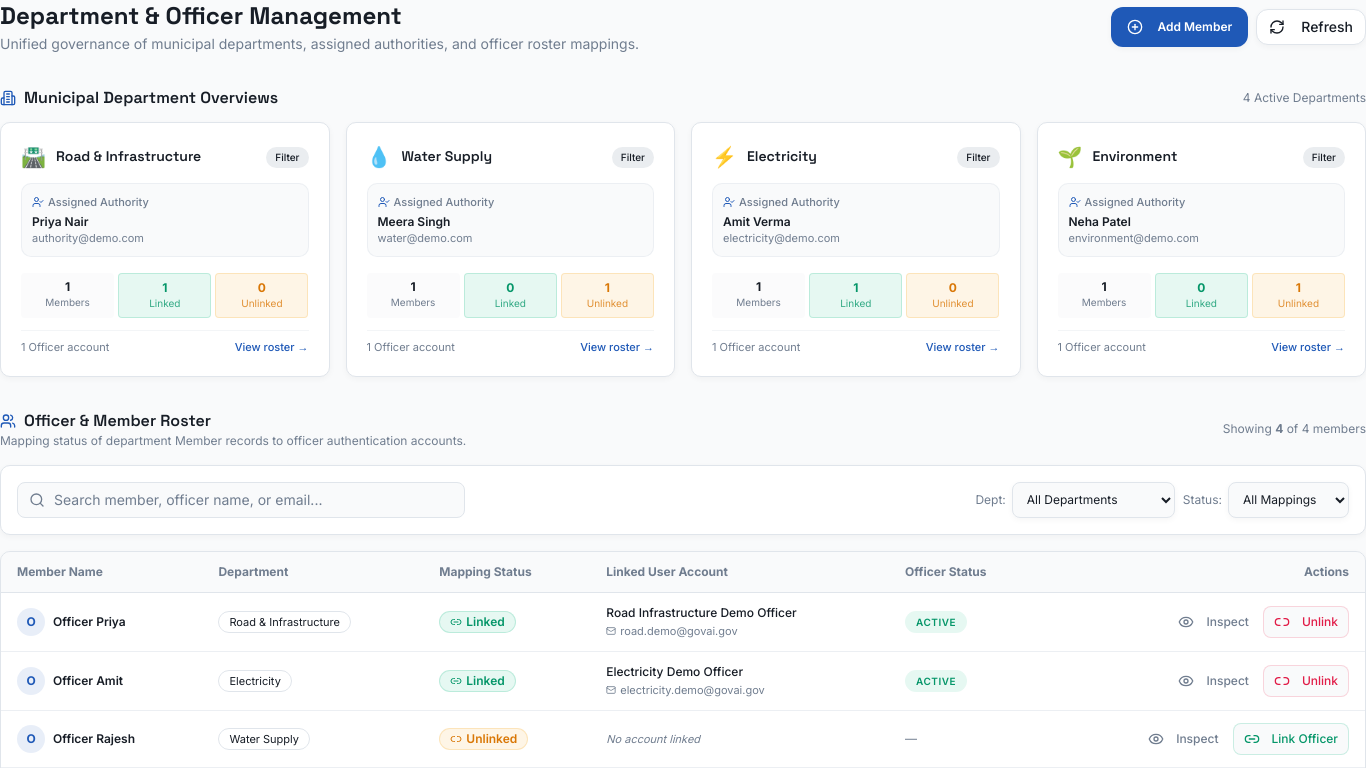
Scenario: Admin Department & Officer Management Page › opens read-only member details dialog with complete inspection data
Expected: the text "Officer Priya" is shown, x1=53 y1=614 x2=126 y2=630
Note: Inspect linked member
Step 1. Click the button with test id "inspect-member-officer-priya" → (1214, 622), box x1=1170 y1=606 x2=1257 y2=638
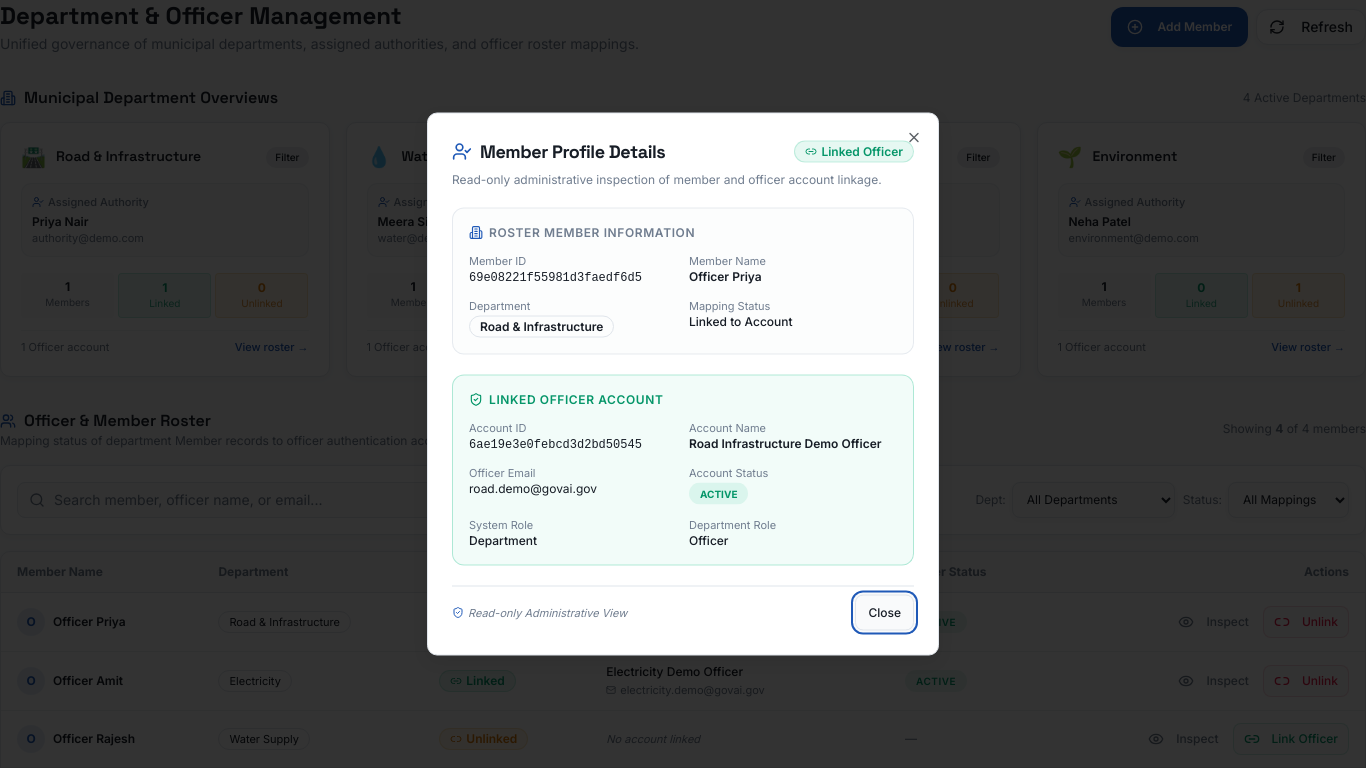
Expected: the dialog with test id "member-details-dialog" is shown, x1=427 y1=112 x2=939 y2=656
Expected: the heading "Member Profile Details" is shown, x1=452 y1=138 x2=665 y2=166
Expected: the text "69e08221f55981d3faedf6d5" is shown, x1=469 y1=270 x2=642 y2=284
Note: Close modal
Step 2. Click the button with test id "close-member-details-dialog" → (885, 612), box x1=855 y1=594 x2=914 y2=630
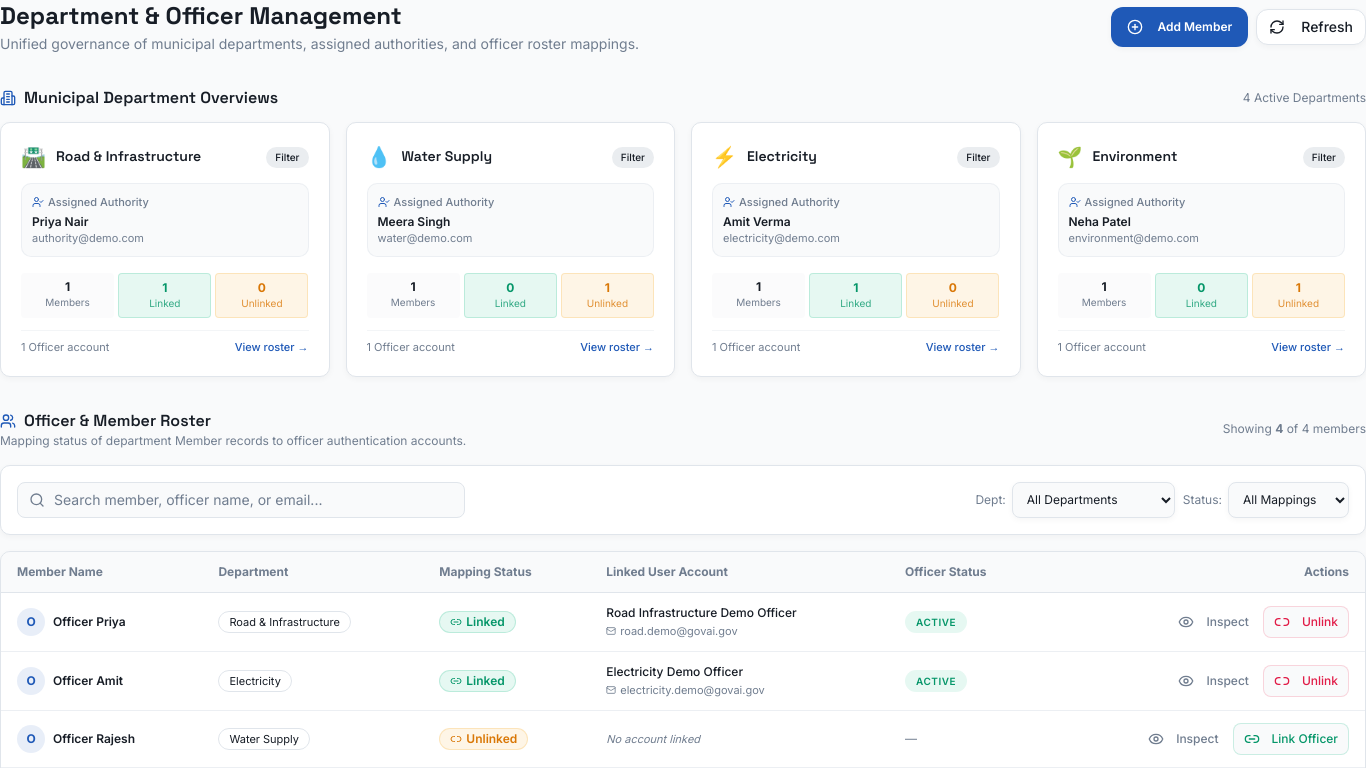
Step 3. Click the button with test id "inspect-member-officer-rajesh" → (1183, 738), box x1=1140 y1=722 x2=1226 y2=754
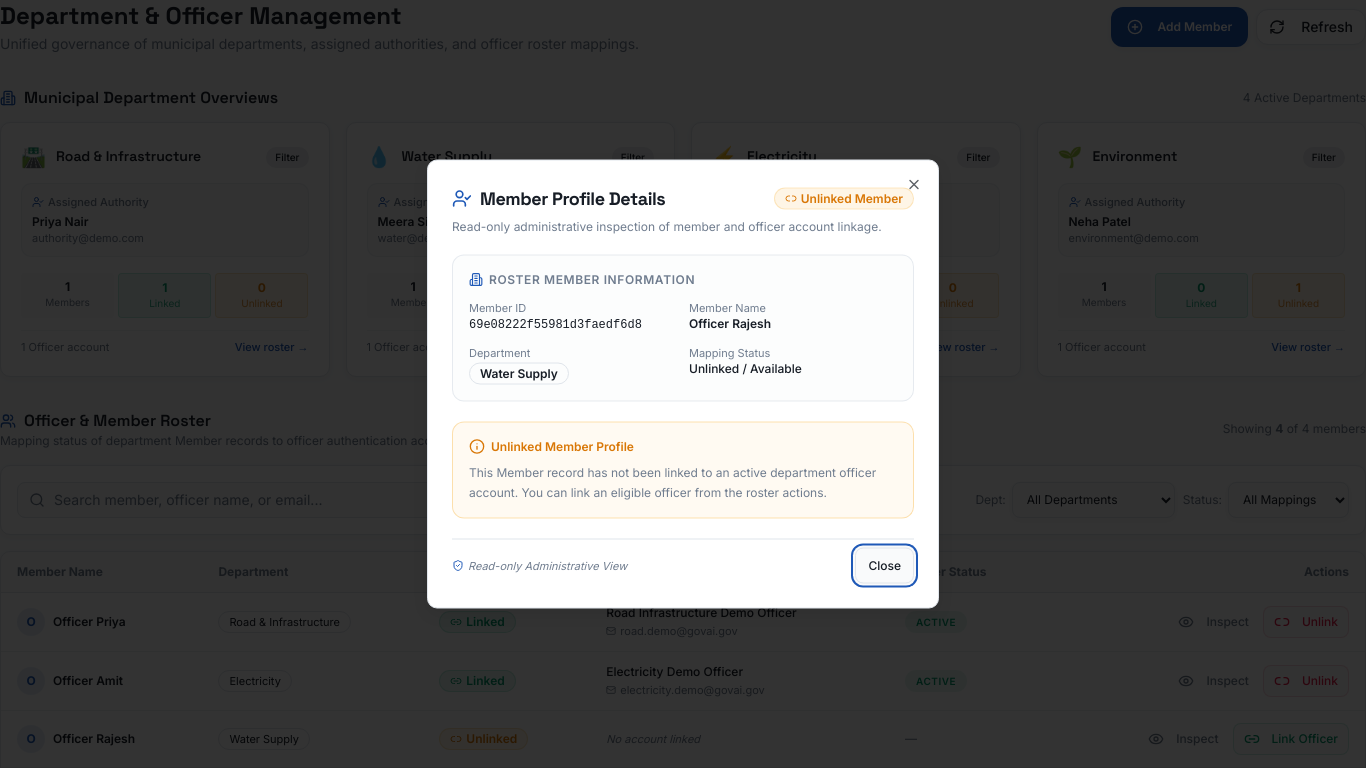
Expected: the text "Unlinked Member Profile" is shown, x1=469 y1=438 x2=634 y2=454
Expected: the text "This Member record has not been linked to an active department officer account" is shown, x1=469 y1=464 x2=876 y2=499
